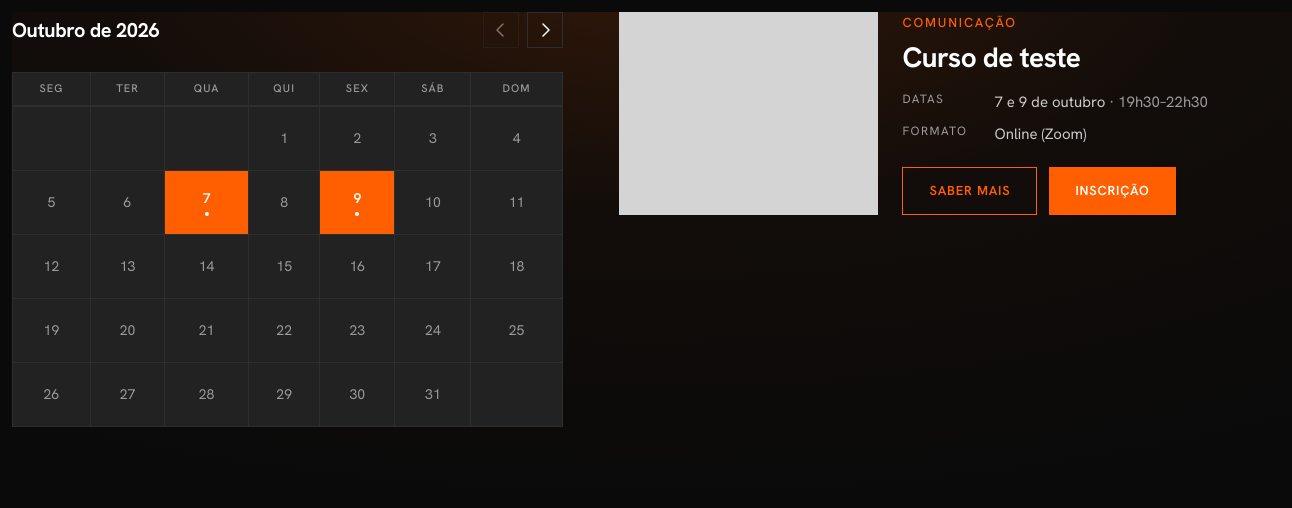
CourseCalendar › advances to the next month when paging forward
Click the button named "Mês seguinte": (545, 30) [527, 12, 563, 48]
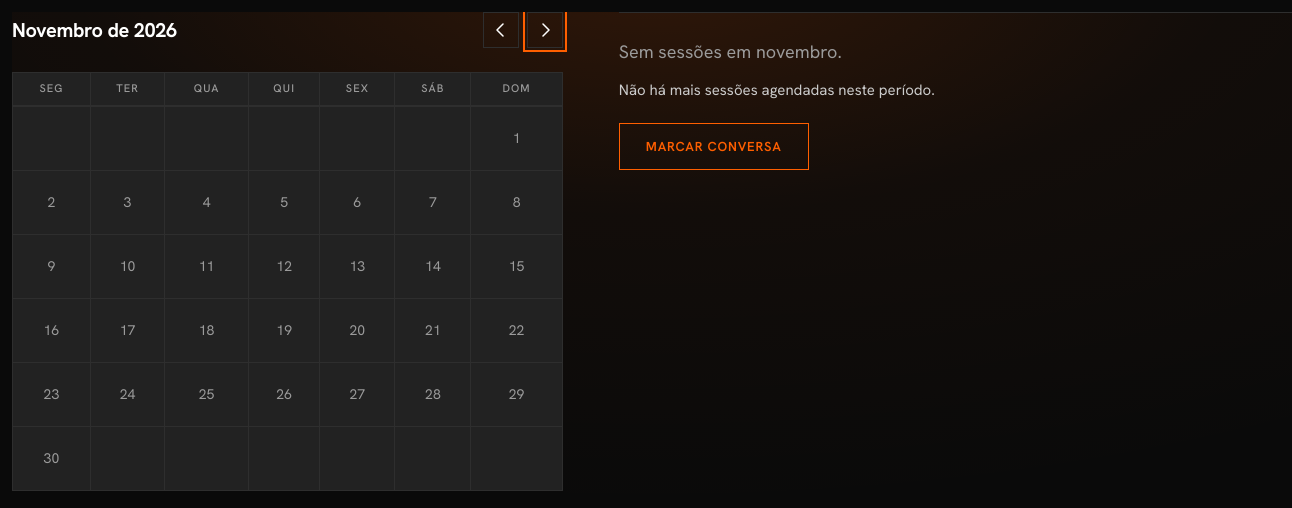
Check: the text "Novembro de 2026" is shown, box [12, 20, 177, 40]
Check: the text "Sem sessões em novembro." is shown, box [619, 40, 842, 63]
